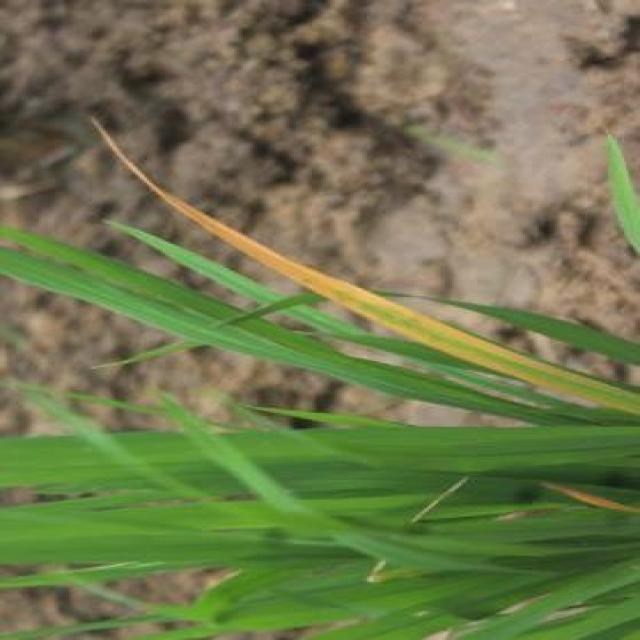Tungro: (80, 104, 640, 403)
